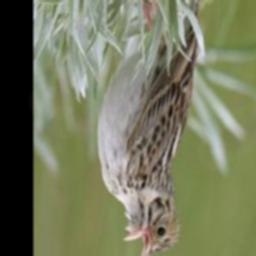Sparrow: (96, 0, 207, 256)
